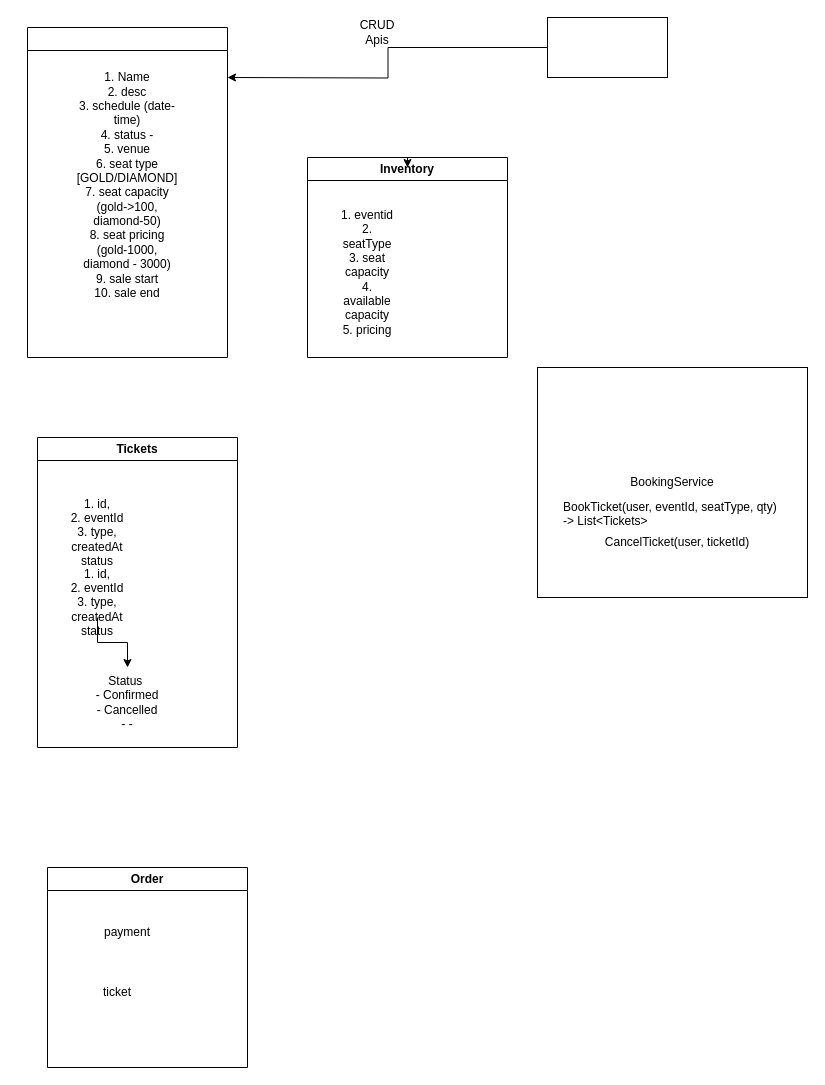
The diagram is 825 pixels wide and 1085 high, and some of its shapes have lost their labels. The shapes that lost their labels are listed below. From the top down, each one's box as (x1, y1, x2, y2) in pixels, then its label:
(546, 16, 668, 78): EventService
(26, 26, 228, 358): Event
